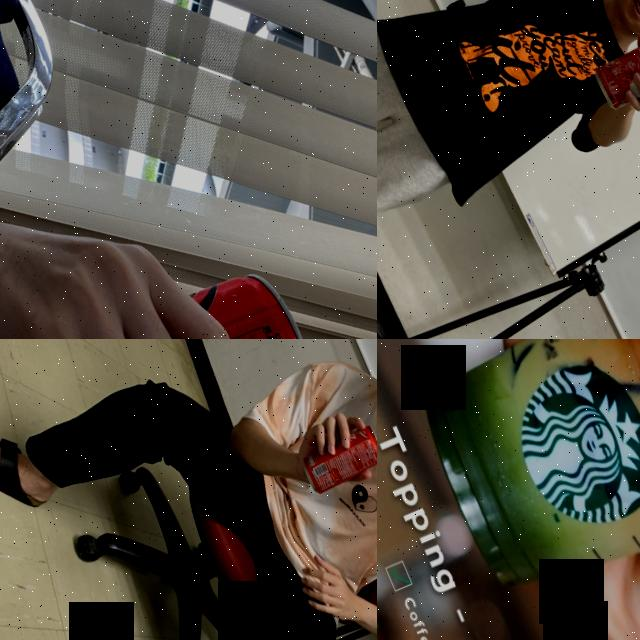can: (0, 250, 329, 339), (295, 421, 377, 497), (587, 26, 640, 113)
cup: (397, 339, 640, 640)
